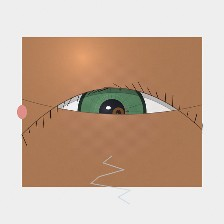foreign_body_visible: (101, 99, 136, 127)
